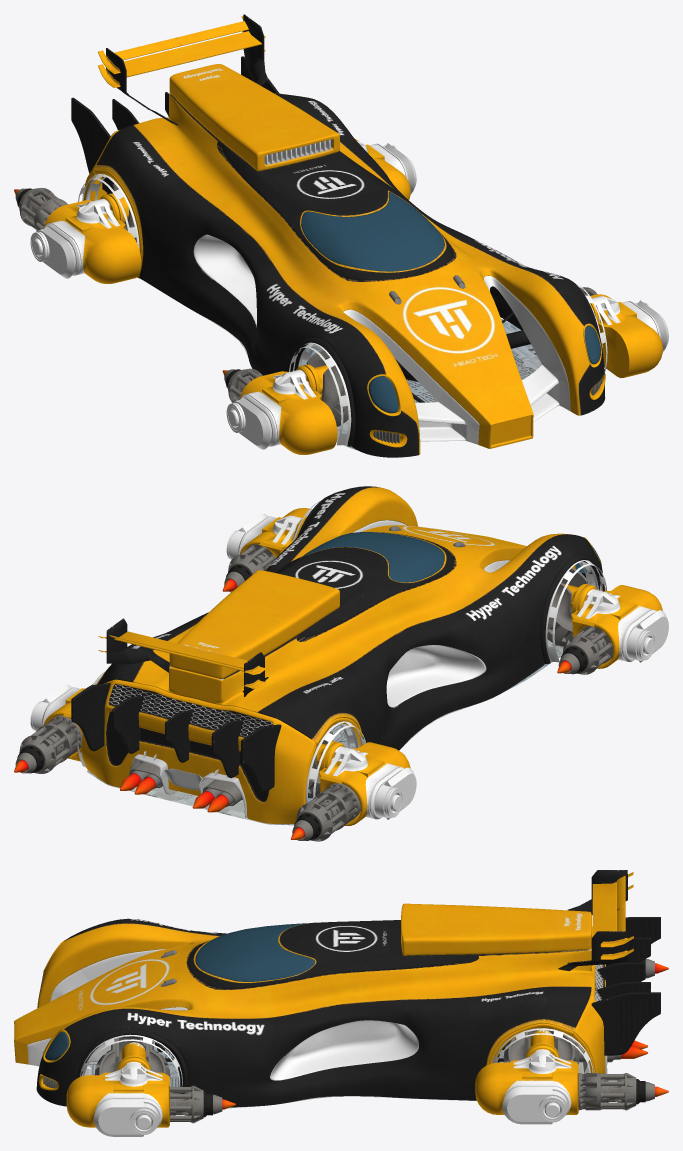
Rendered from Spaceship_4.glb.
3 views of the same model, one above another, from view 1: azimuth 30°, elevation 25°; view 2: azimuth 150°, elevation 25°; view 3: azimuth 270°, elevation 25° (orthographic). The views are drawn at different scales.
Parts seen in each view (by area): view 1: mirror; view 2: mirror; view 3: mirror.
Part boxes in pixels (x1=…): mirror: x1=14, y1=14, x2=668, y2=457; mirror: x1=14, y1=486, x2=668, y2=841; mirror: x1=14, y1=870, x2=668, y2=1136.
Bounding box in the file's own units: 4.38 × 1.67 × 6.52.
1 material, 1 textured.
